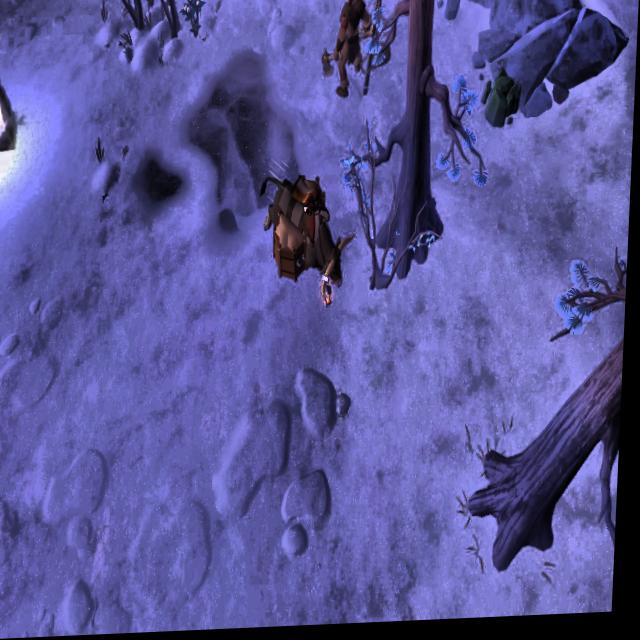enemy_factionKeeper: (321, 0, 375, 106)
fiber_t4: (181, 0, 208, 38)
rock_t3: (481, 69, 526, 137)
